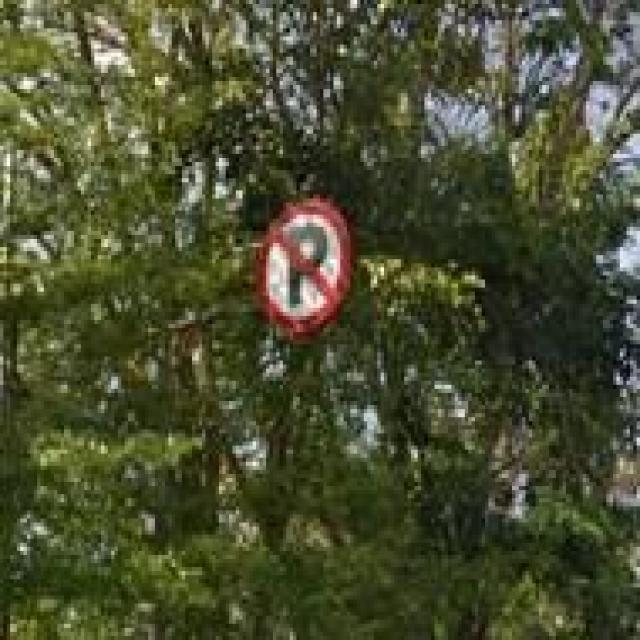no parking: (256, 199, 351, 333)
